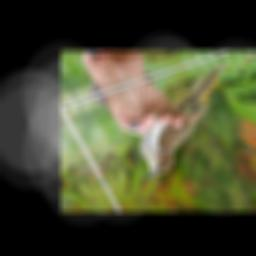Cuckoo: (101, 60, 256, 183)
